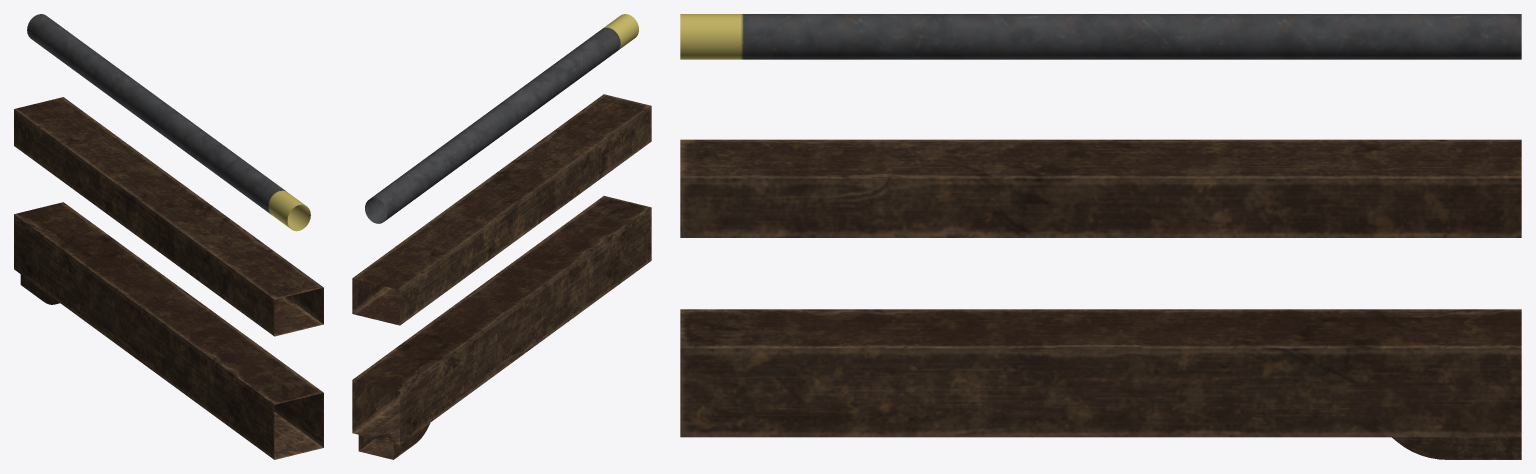
Rendered from SM_Fence_03.fbx.
The picture shows the model from 3 angles, left to right: view 1: azimuth 30°, elevation 25°; view 2: azimuth 150°, elevation 25°; view 3: azimuth 270°, elevation 25°; orthographic projection. The views are drawn at different scales.
Visible parts, largest first — view 1: SM_Fence_03_LOD0; view 2: SM_Fence_03_LOD0; view 3: SM_Fence_03_LOD0.
Part boxes in pixels (x1,y1,x2,y2): SM_Fence_03_LOD0: (14, 14, 323, 459); SM_Fence_03_LOD0: (352, 14, 651, 459); SM_Fence_03_LOD0: (680, 14, 1521, 459).
Bounding box in the file's own units: 20.57 × 188 × 106.
